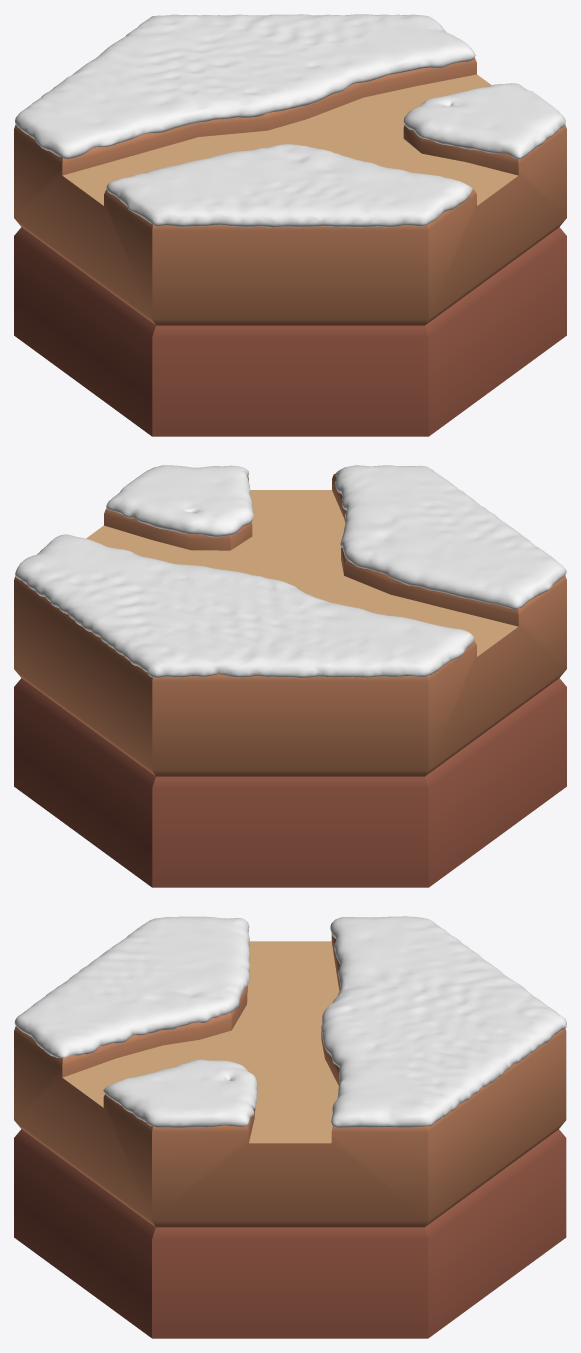
File: hex_rock_roadE_detail.fbx
3 renders of one model, top to bottom at view 1: azimuth 30°, elevation 25°; view 2: azimuth 150°, elevation 25°; view 3: azimuth 270°, elevation 25°, orthographic.
Parts seen in each view (by area): view 1: SnowBall.001, hex_rock_roadE_detail.002, hex_rock_roadE_detail.001, hex_rock_roadE_detail; view 2: SnowBall.001, hex_rock_roadE_detail.002, hex_rock_roadE_detail.001, hex_rock_roadE_detail; view 3: SnowBall.001, hex_rock_roadE_detail.002, hex_rock_roadE_detail.001, hex_rock_roadE_detail.
Part boxes in pixels (x1,y1,x2,y2): SnowBall.001: [15, 14, 565, 227]; hex_rock_roadE_detail.002: [14, 227, 566, 436]; hex_rock_roadE_detail.001: [14, 58, 566, 325]; hex_rock_roadE_detail: [63, 74, 517, 205]; SnowBall.001: [15, 465, 566, 678]; hex_rock_roadE_detail.002: [14, 678, 566, 887]; hex_rock_roadE_detail.001: [14, 473, 566, 776]; hex_rock_roadE_detail: [86, 490, 517, 656]; SnowBall.001: [14, 916, 566, 1128]; hex_rock_roadE_detail.002: [14, 1129, 566, 1338]; hex_rock_roadE_detail.001: [14, 934, 566, 1227]; hex_rock_roadE_detail: [62, 941, 339, 1143].
Bounding box in the file's own units: 202 × 103 × 231.
